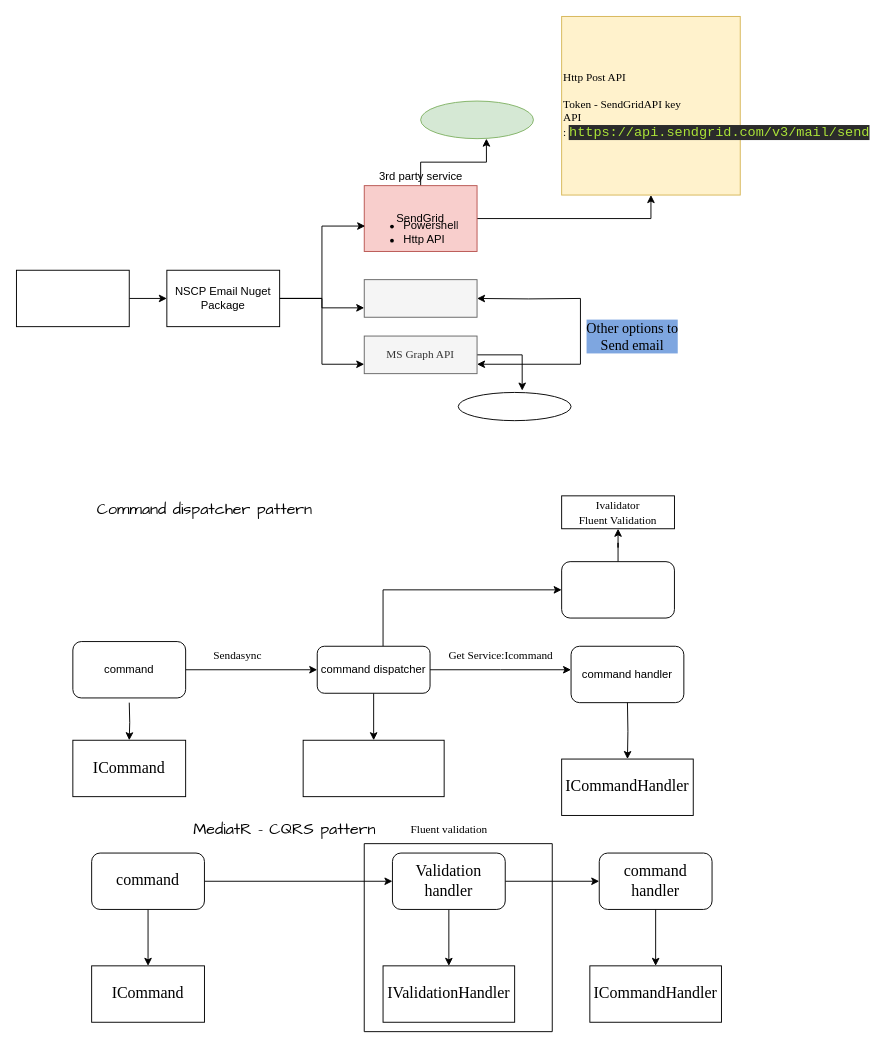
Some shapes in this 886 by 1048 pixel diagram are drawn without their labels. Each missing label, with the box of its shape:
API key: (420, 100, 533, 139)
ICommandDispatcher: (302, 739, 444, 797)
ITM - SendEmailCommand: (16, 269, 129, 327)
Office 365 SMTP: (363, 279, 477, 317)
Token: (457, 392, 571, 421)
ValidatorHandler: (561, 561, 674, 618)
